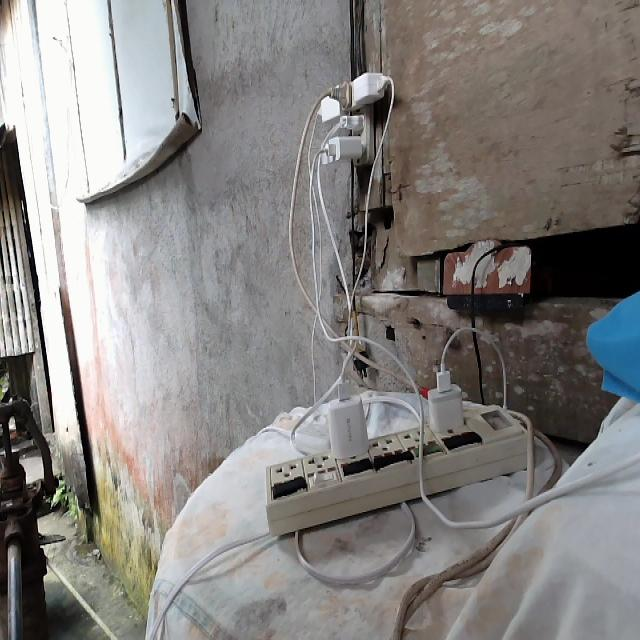-: (310, 68, 398, 164)
